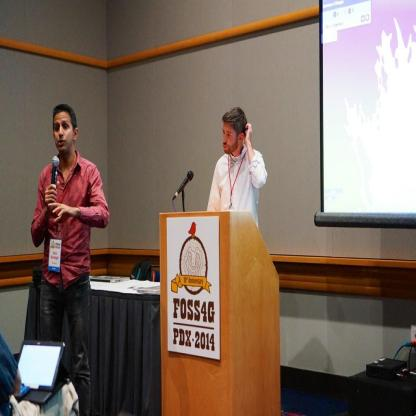board: (12, 335, 60, 405), (89, 274, 131, 283), (133, 282, 160, 294)
